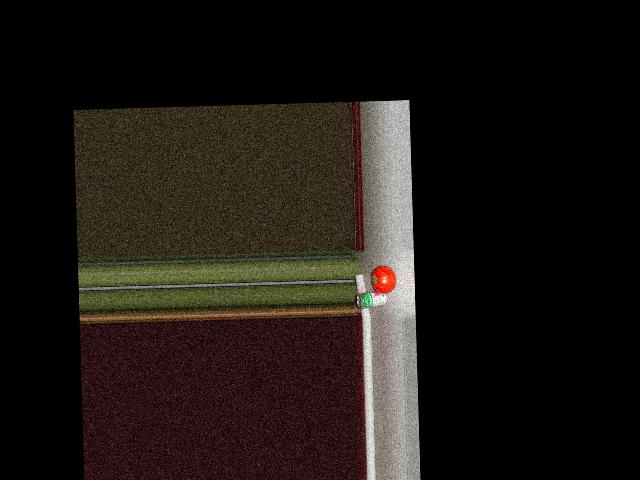tomato: (372, 265, 396, 293)
